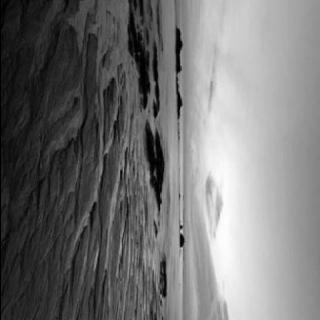Cirrostratus: (188, 0, 232, 320)
